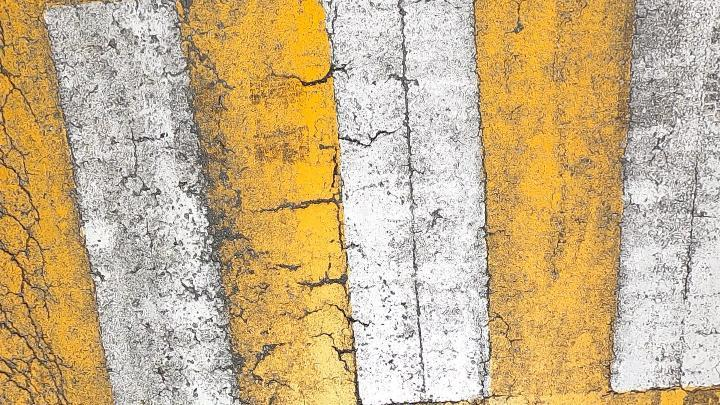Lane: (1, 0, 720, 405), (2, 0, 719, 404)
